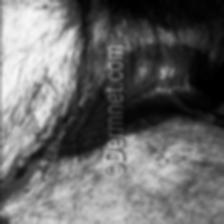Toxin: (130, 43, 210, 136), (36, 76, 102, 168)
